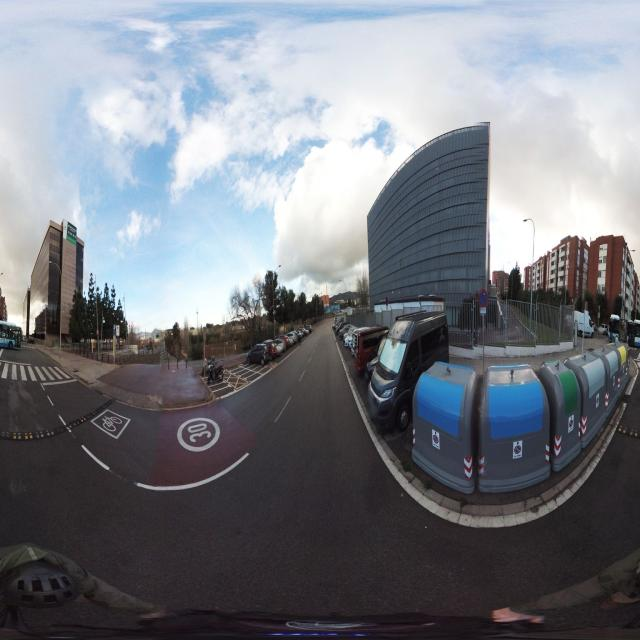forb_stopping: (478, 288, 488, 309)
forb_waiting: (117, 336, 120, 343)
